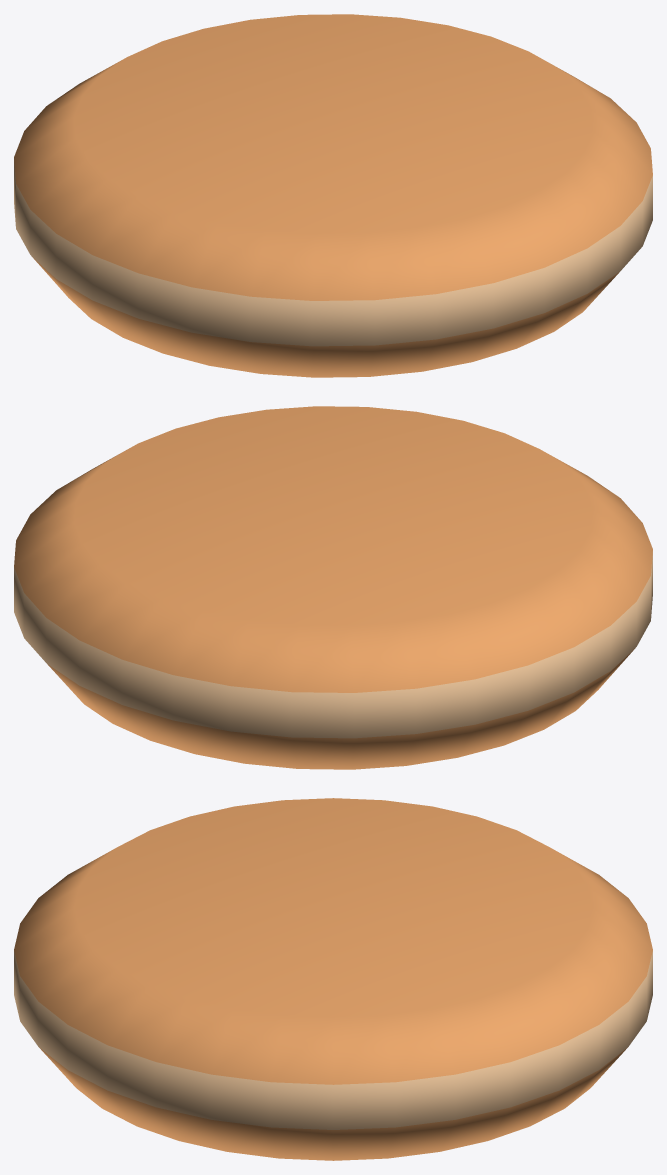
The model's file is pancake_cooked.fbx.
3 views of the same model, one above another, from view 1: azimuth 30°, elevation 25°; view 2: azimuth 150°, elevation 25°; view 3: azimuth 270°, elevation 25° (orthographic).
Parts seen in each view (by area): view 1: Cylinder; view 2: Cylinder; view 3: Cylinder.
Boxes of the visible parts, x1,y1,x2,y2 form: Cylinder: (14, 14, 652, 377); Cylinder: (14, 406, 652, 769); Cylinder: (14, 798, 652, 1160).
Bounding box in the file's own units: 200 × 46.93 × 200.
